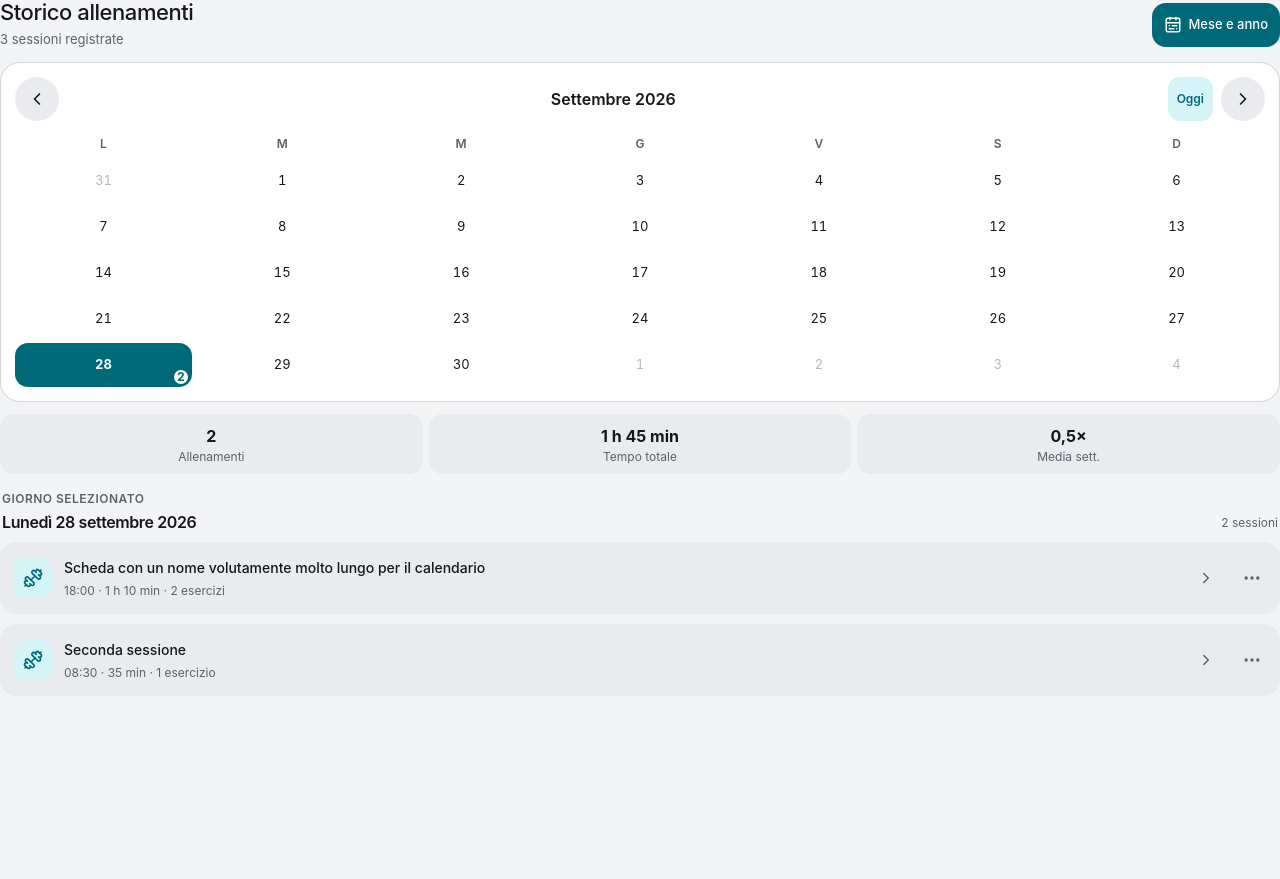
TrainingHistory calendar › navigates months and uses the internal month/year picker
The width and height of the screenshot is (1280, 879).
Click the button named "Mese precedente". click: [37, 99]
box: top-left (15, 77), bottom-right (59, 121)
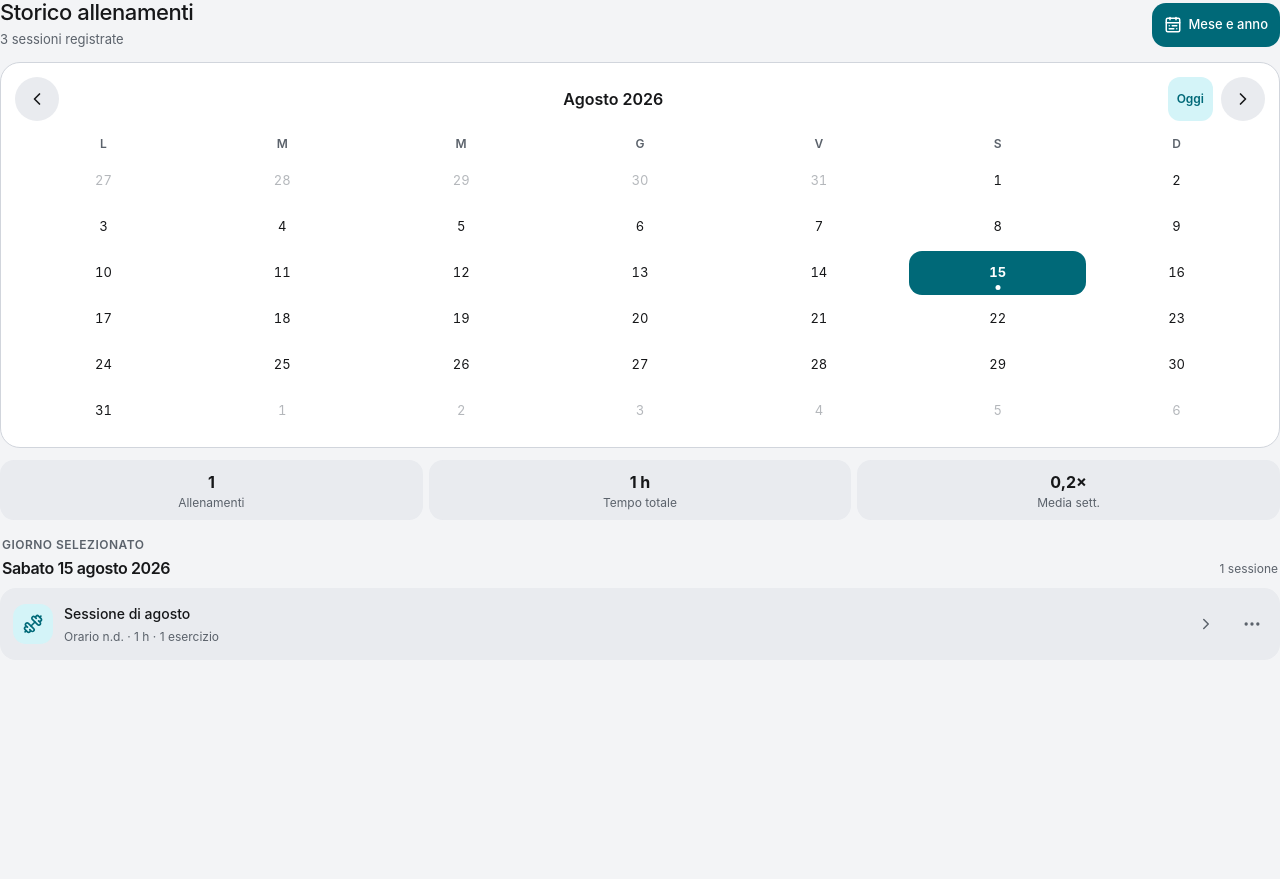
Result: the text "Agosto 2026" is shown at top-left (563, 89), bottom-right (663, 109)
Result: the text "Sessione di agosto" is shown at top-left (64, 605), bottom-right (190, 622)
Click the button "Mese e anno". click: [1216, 25]
box: top-left (1152, 3), bottom-right (1279, 47)
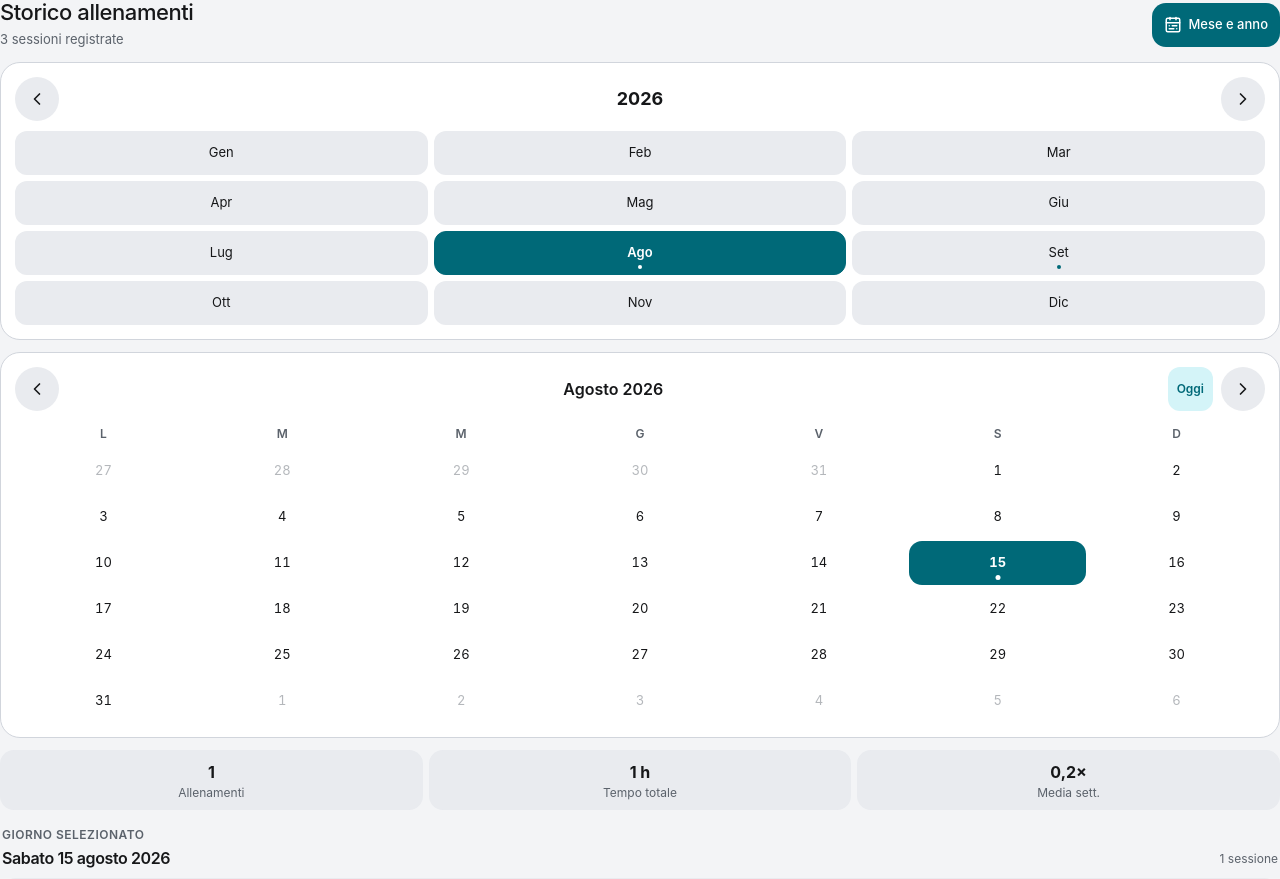
Result: the button with aria-label "Ago 2026, contiene allenamenti" is shown at top-left (434, 231), bottom-right (846, 275)
Click the button named "Anno precedente". click: [37, 99]
box: top-left (15, 77), bottom-right (59, 121)
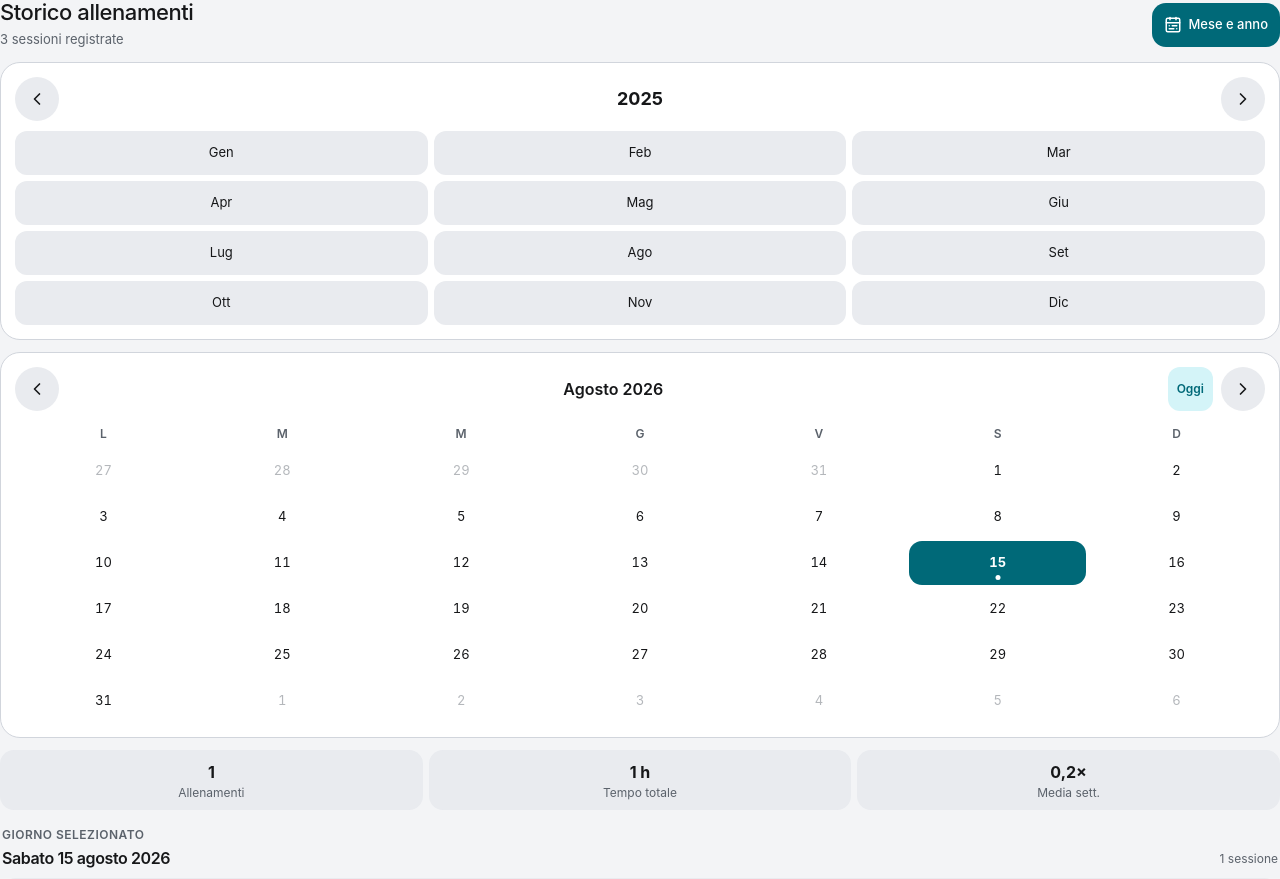
Result: the button with aria-label "Ago 2025" is shown at top-left (434, 231), bottom-right (846, 275)
Click the button named "Anno successivo". click: [1243, 99]
box: top-left (1221, 77), bottom-right (1265, 121)
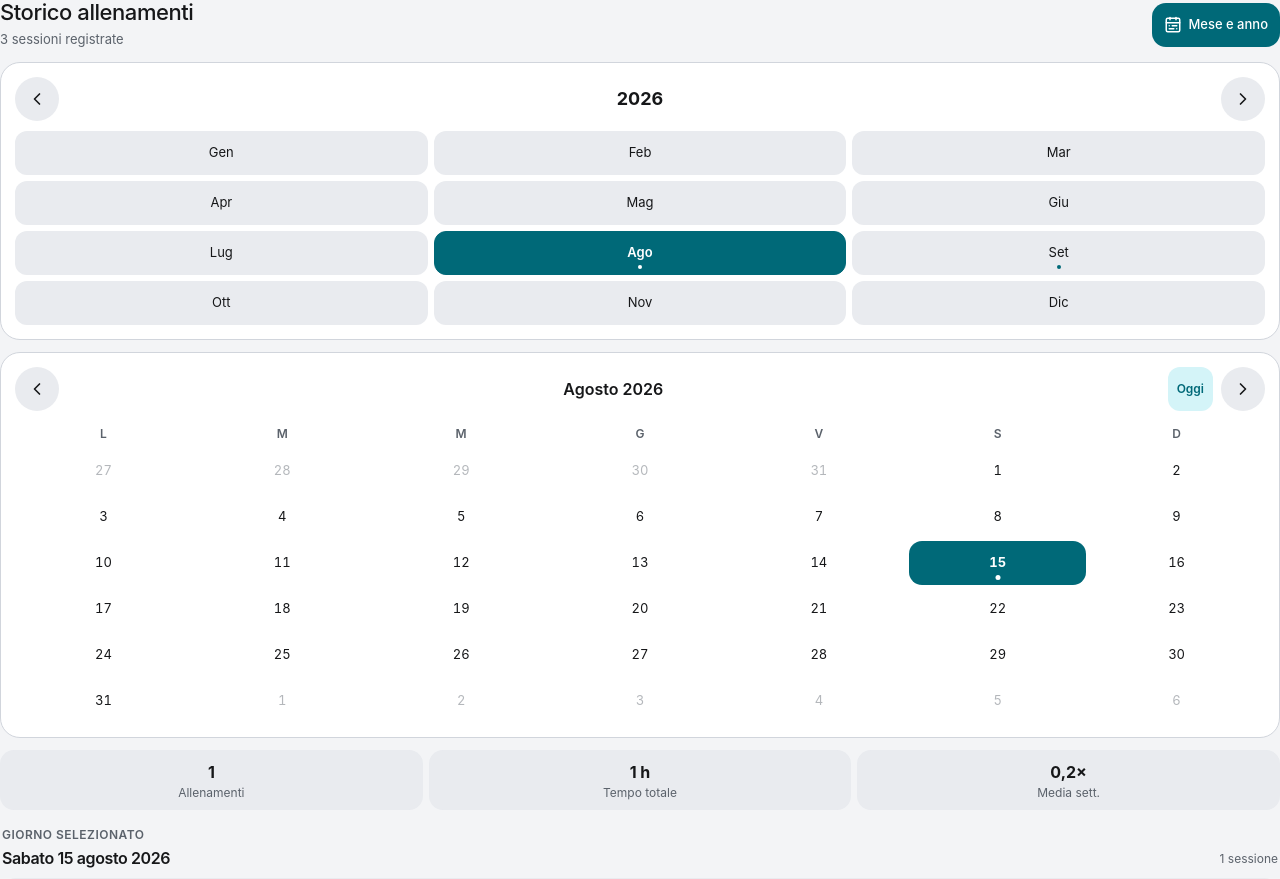
Click the button with aria-label "Set 2026, contiene allenamenti". click: [1059, 253]
box: top-left (852, 231), bottom-right (1265, 275)
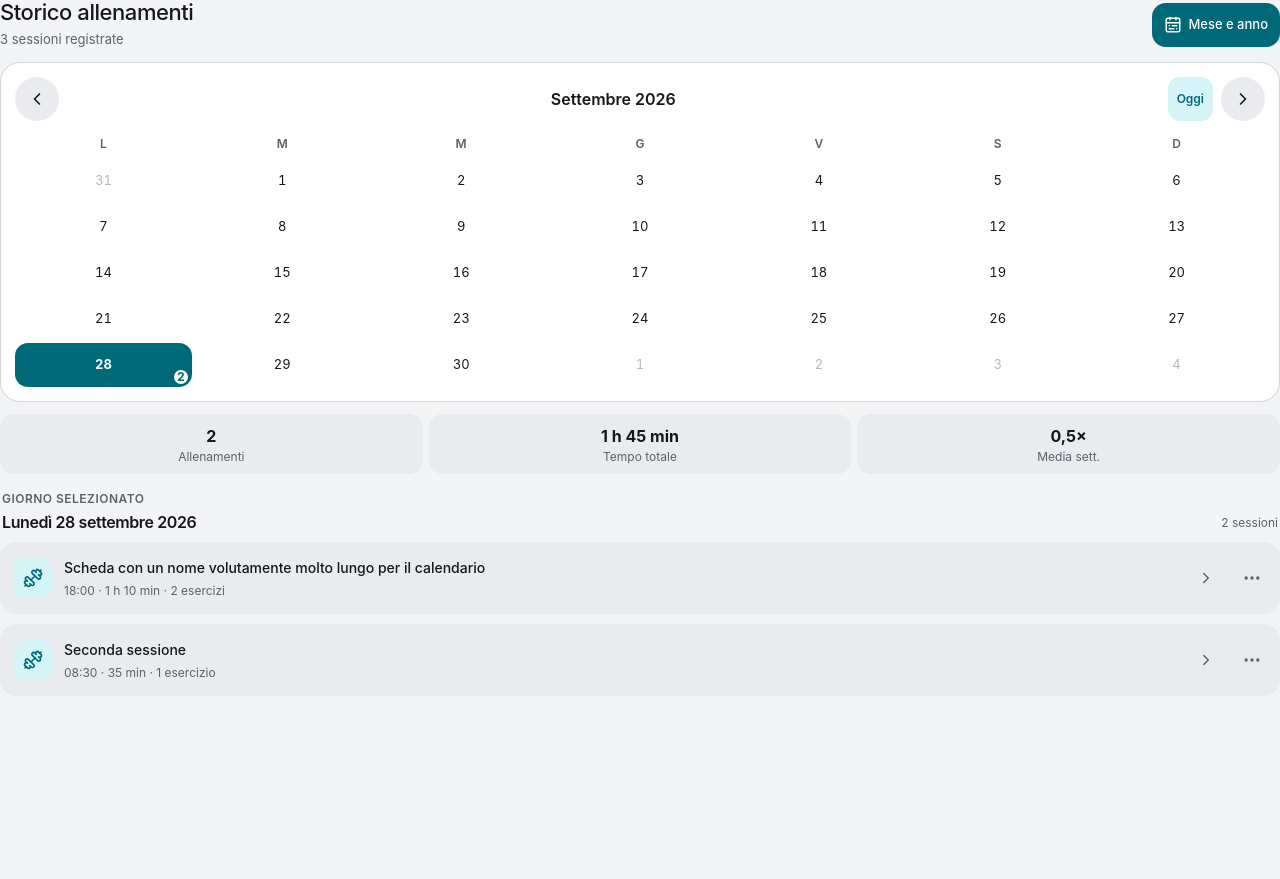
Result: the text "Settembre 2026" is shown at top-left (551, 89), bottom-right (676, 109)
